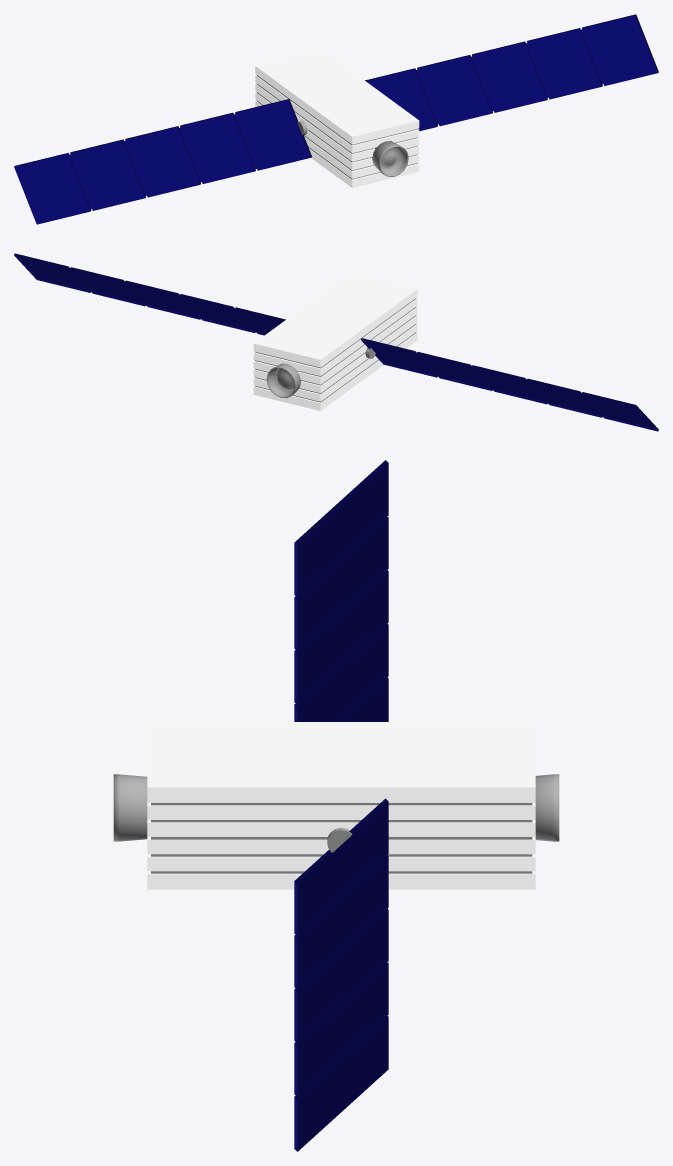
Rendered from Generator.glb.
The picture shows the model from 3 angles, top to bottom: view 1: azimuth 30°, elevation 25°; view 2: azimuth 150°, elevation 25°; view 3: azimuth 270°, elevation 25°; orthographic projection. The views are drawn at different scales.
Parts seen in each view (by area): view 1: Cube.003; view 2: Cube.003; view 3: Cube.003.
Boxes of the visible parts, x1,y1,x2,y2 form: Cube.003: (14,14,658,224); Cube.003: (14,253,658,431); Cube.003: (113,460,559,1151).
Size of the model in its own units: 12.56 by 0.9886 by 3.9.
